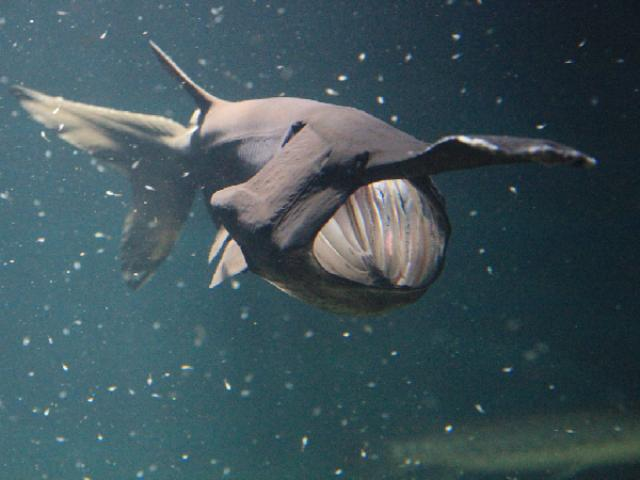Sirip Ekor: (5, 88, 185, 314)
Sirip Punggung: (136, 35, 232, 129)
